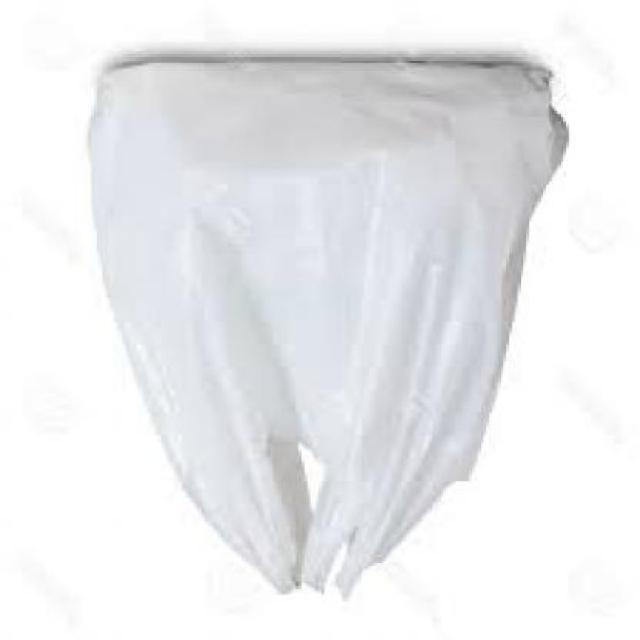PLASTIC: (91, 54, 568, 593)
